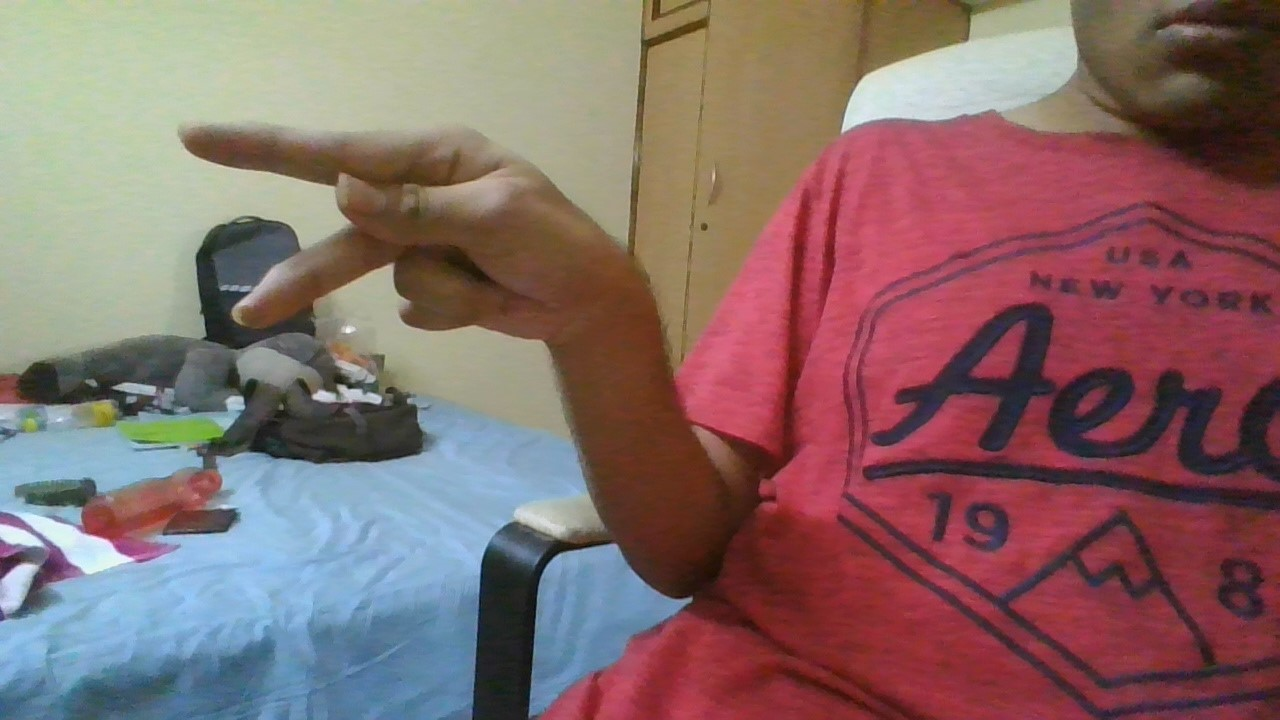p: (171, 113, 625, 343)
